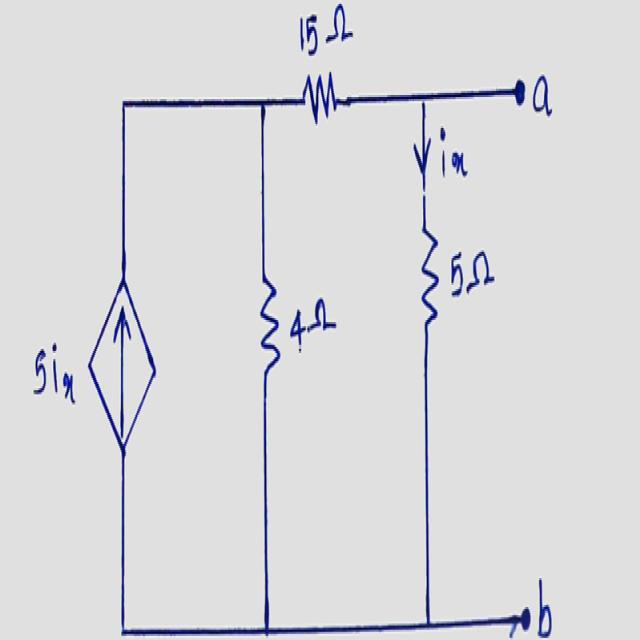dependant_current: (86, 262, 158, 460)
resistor: (255, 267, 287, 397), (415, 212, 443, 356), (298, 65, 343, 136)
